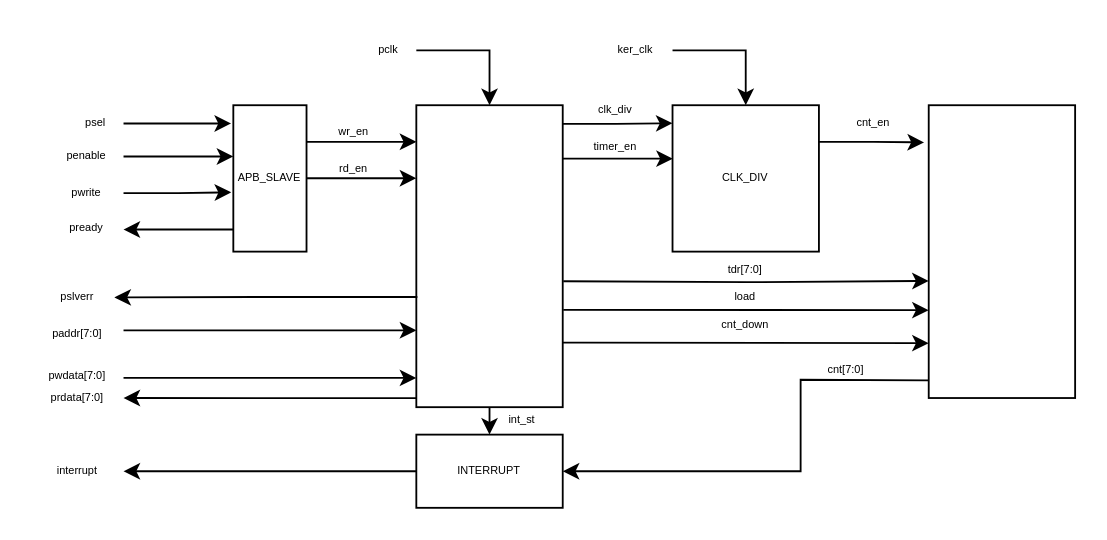
Image size: 1107x540. Some labels were removed from this diagram. The shapes that lost their labels are listed below. From the top down, each one's box as (x1, y1, x2, y2) in pixels, then its label:
(414, 103, 563, 407): REGISTER
(927, 103, 1075, 398): COUNTER
